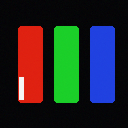4 line_v: (19, 77, 23, 99)
